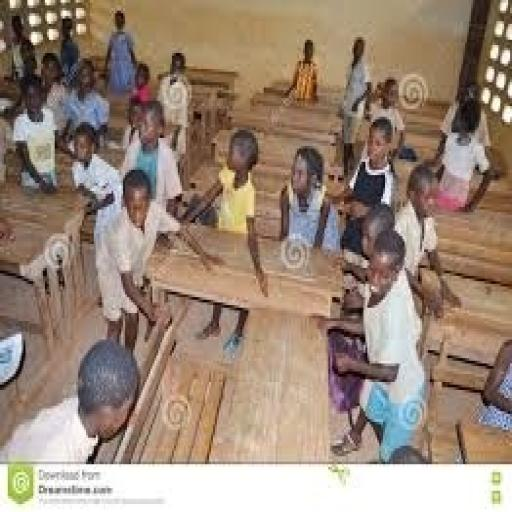sitting: (322, 228, 430, 462), (0, 334, 143, 464), (190, 128, 270, 356), (94, 167, 182, 350), (389, 162, 463, 321), (334, 114, 401, 255), (428, 93, 494, 215), (119, 98, 184, 215), (276, 144, 342, 258), (67, 120, 125, 242), (10, 72, 60, 196), (58, 56, 112, 148), (154, 48, 194, 164), (364, 74, 412, 162), (475, 334, 510, 435), (100, 6, 138, 96), (280, 34, 320, 109)
